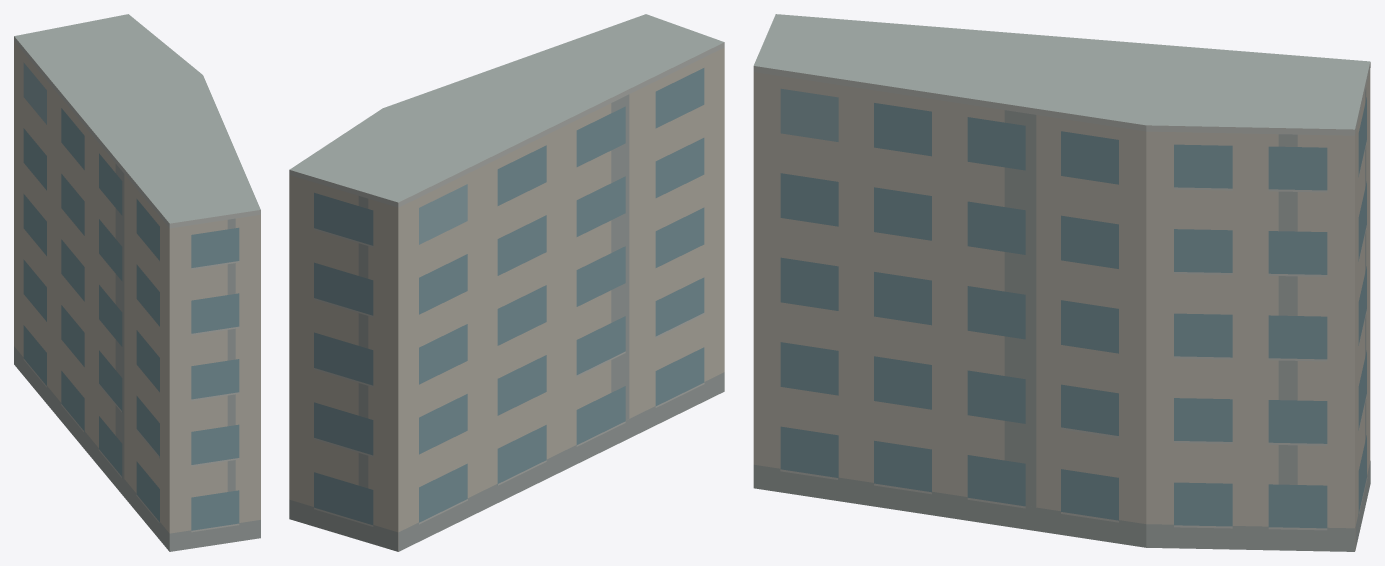
Rendered from survey-upis-32565323.glb.
The picture shows the model from 3 angles, left to right: view 1: azimuth 30°, elevation 25°; view 2: azimuth 150°, elevation 25°; view 3: azimuth 270°, elevation 25°; orthographic projection. The views are drawn at different scales.
Visible parts, largest first — view 1: survey-upis-32565323.tmp; view 2: survey-upis-32565323.tmp; view 3: survey-upis-32565323.tmp.
Part boxes in pixels (x1,y1,x2,y2): survey-upis-32565323.tmp: (14, 14, 260, 551); survey-upis-32565323.tmp: (289, 14, 724, 551); survey-upis-32565323.tmp: (753, 14, 1370, 551).
Size of the model in its own units: 9.71 by 16.55 by 21.92.
